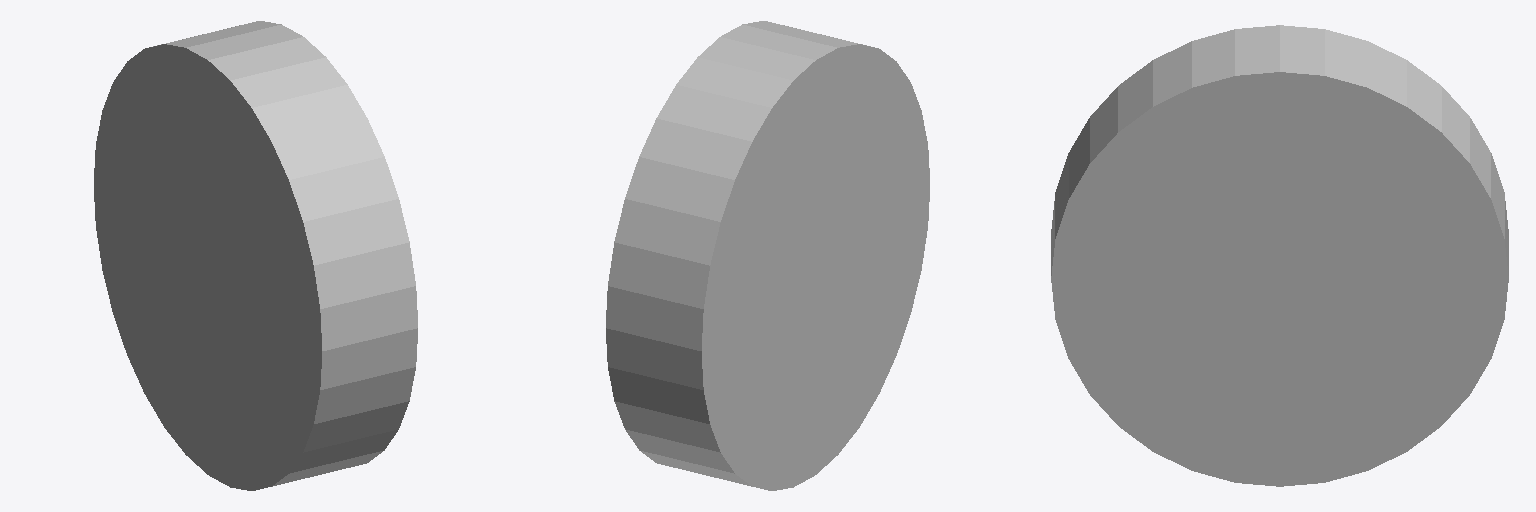
Rendered from coin.obj.
3 views of the same model, side by side, from view 1: azimuth 30°, elevation 25°; view 2: azimuth 150°, elevation 25°; view 3: azimuth 270°, elevation 25° (orthographic).
Parts seen in each view (by area): view 1: Cylinder; view 2: Cylinder; view 3: Cylinder.
Part boxes in pixels (x1,y1,x2,y2): Cylinder: (94, 21, 417, 490); Cylinder: (606, 21, 929, 490); Cylinder: (1051, 25, 1508, 486).
Bounding box in the file's own units: 0.1223 × 0.5055 × 0.5055.